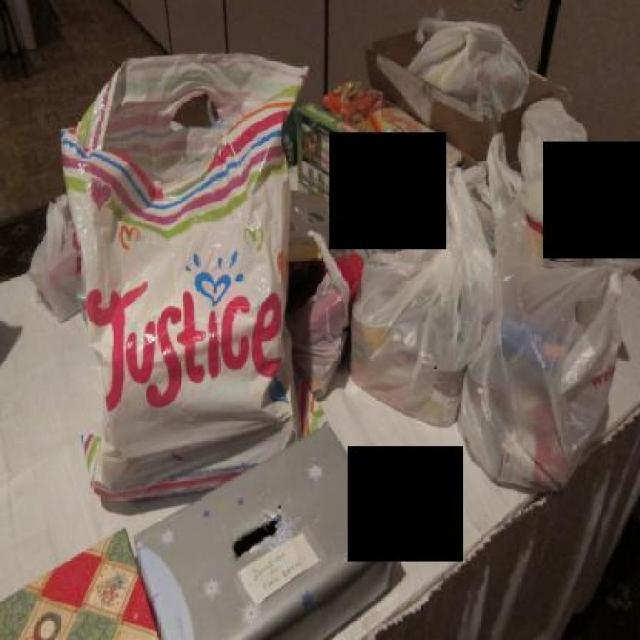plastic bag: (21, 9, 634, 498)
